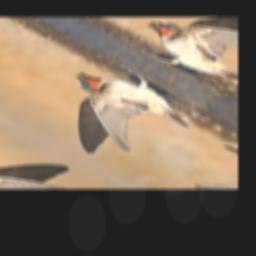Swallow: (18, 55, 212, 174)
